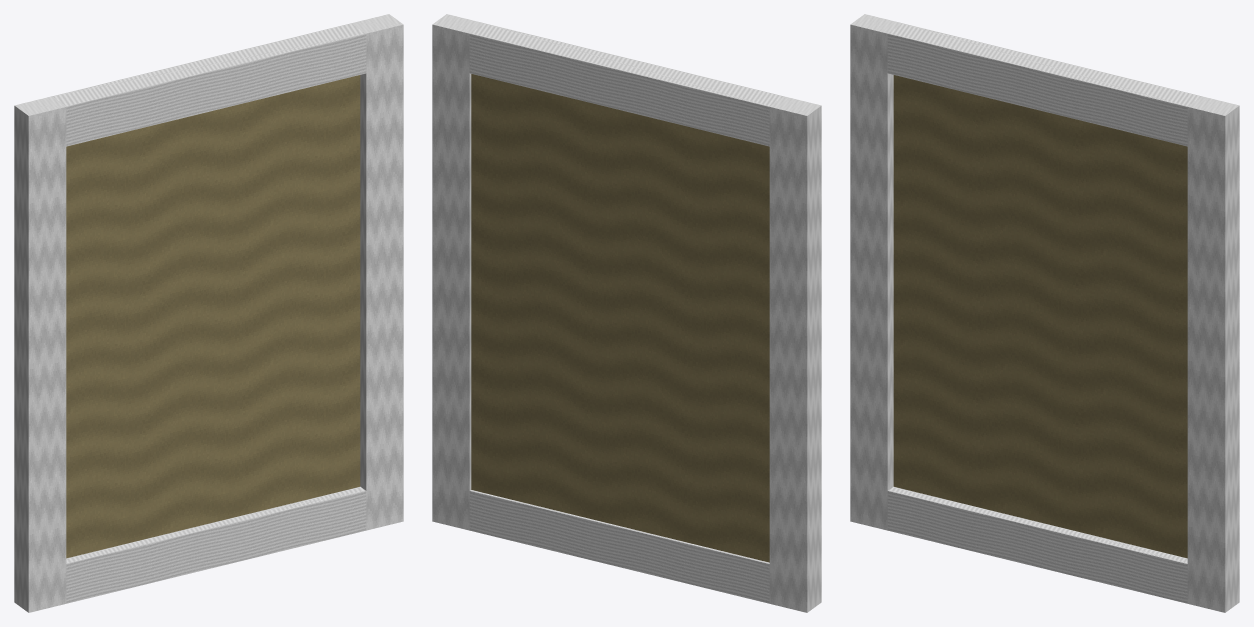
3 views of the same model, side by side, from view 1: azimuth 30°, elevation 25°; view 2: azimuth 150°, elevation 25°; view 3: azimuth 330°, elevation 25° (orthographic).
Parts seen in each view (by area): view 1: 5 artwork_print, 1 frame_left, 2 frame_right, 3 frame_top, 4 frame_bottom; view 2: 5 artwork_print, 1 frame_left, 2 frame_right, 3 frame_top, 4 frame_bottom; view 3: 5 artwork_print, 2 frame_right, 1 frame_left, 3 frame_top, 4 frame_bottom.
Boxes of the visible parts, x1,y1,x2,y2 form: 5 artwork_print: (66, 75, 360, 558); 1 frame_left: (14, 96, 66, 612); 2 frame_right: (352, 14, 403, 530); 3 frame_top: (52, 23, 366, 146); 4 frame_bottom: (66, 486, 366, 603); 5 artwork_print: (471, 74, 769, 562); 1 frame_left: (769, 96, 821, 612); 2 frame_right: (432, 14, 483, 530); 3 frame_top: (469, 23, 783, 146); 4 frame_bottom: (469, 490, 769, 603); 5 artwork_print: (893, 75, 1187, 558); 2 frame_right: (1187, 96, 1239, 612); 1 frame_left: (850, 14, 901, 530); 3 frame_top: (887, 23, 1201, 146); 4 frame_bottom: (887, 486, 1187, 603).
Bounding box in the file's own units: 0.381 × 0.4826 × 0.0254.
2 materials, 2 textured.
